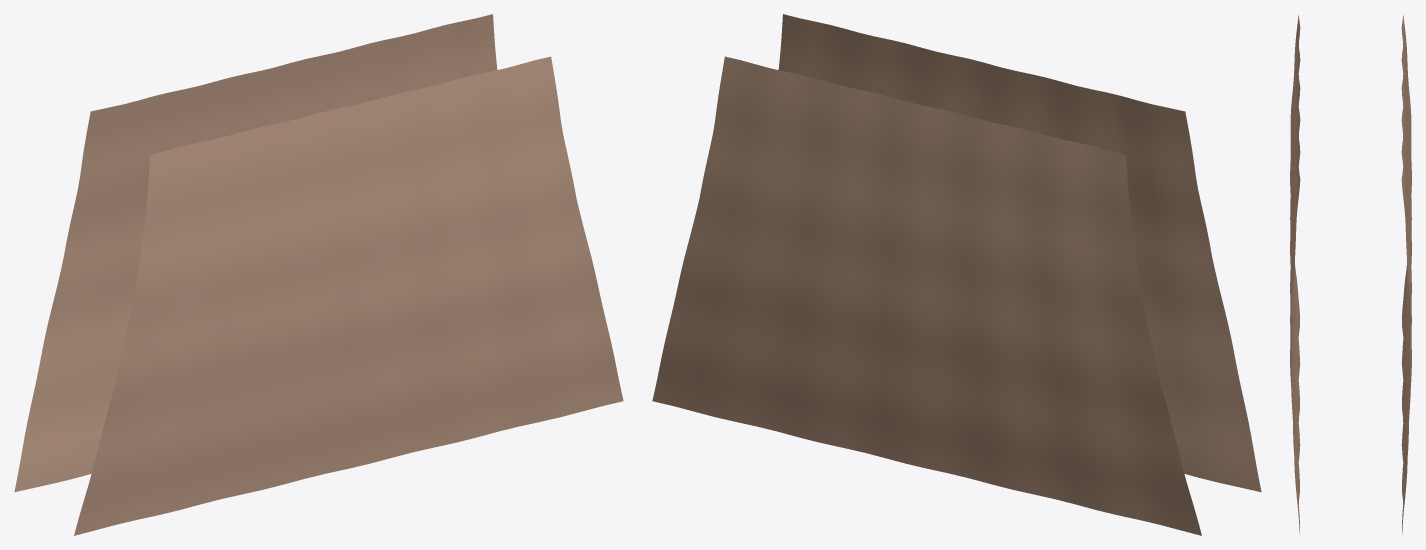
The model's file is clean.glb.
The picture shows the model from 3 angles, left to right: view 1: azimuth 30°, elevation 25°; view 2: azimuth 150°, elevation 25°; view 3: azimuth 270°, elevation 25°; orthographic projection. The views are drawn at different scales.
Parts seen in each view (by area): view 1: clean:manual-skirt-01.front, clean:manual-skirt-01.back; view 2: clean:manual-skirt-01.back, clean:manual-skirt-01.front; view 3: clean:manual-skirt-01.front, clean:manual-skirt-01.back.
Boxes of the visible parts, x1=… form: clean:manual-skirt-01.front: x1=74, y1=56, x2=623, y2=535; clean:manual-skirt-01.back: x1=14, y1=14, x2=497, y2=492; clean:manual-skirt-01.back: x1=652, y1=56, x2=1201, y2=535; clean:manual-skirt-01.front: x1=778, y1=14, x2=1261, y2=492; clean:manual-skirt-01.front: x1=1290, y1=15, x2=1300, y2=534; clean:manual-skirt-01.back: x1=1401, y1=15, x2=1411, y2=534.
Bounding box in the file's own units: 1.24 × 0.78 × 0.2707.
